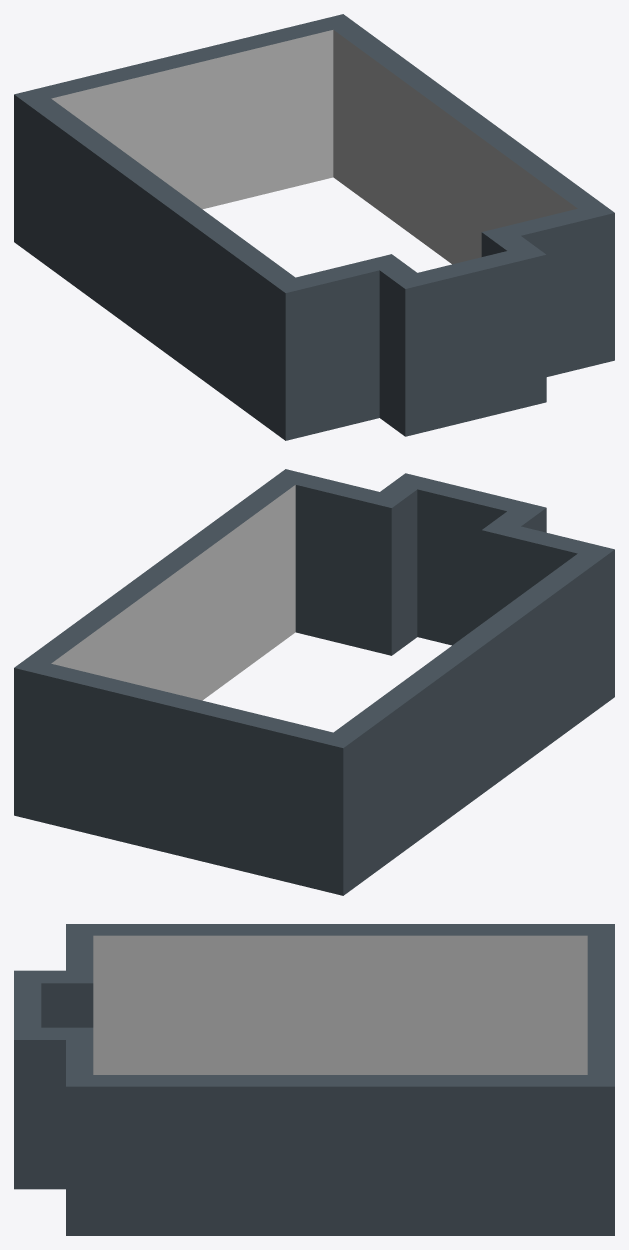
Rendered from Room02_col.FBX.
The picture shows the model from 3 angles, top to bottom: view 1: azimuth 30°, elevation 25°; view 2: azimuth 150°, elevation 25°; view 3: azimuth 270°, elevation 25°; orthographic projection.
Visible parts, largest first — view 1: Room02_col; view 2: Room02_col; view 3: Room02_col.
Part boxes in pixels (x1,y1,x2,y2): Room02_col: (14,14,614,440); Room02_col: (14,469,614,895); Room02_col: (14,924,614,1235).
Bounding box in the file's own units: 700 × 300 × 1095.
